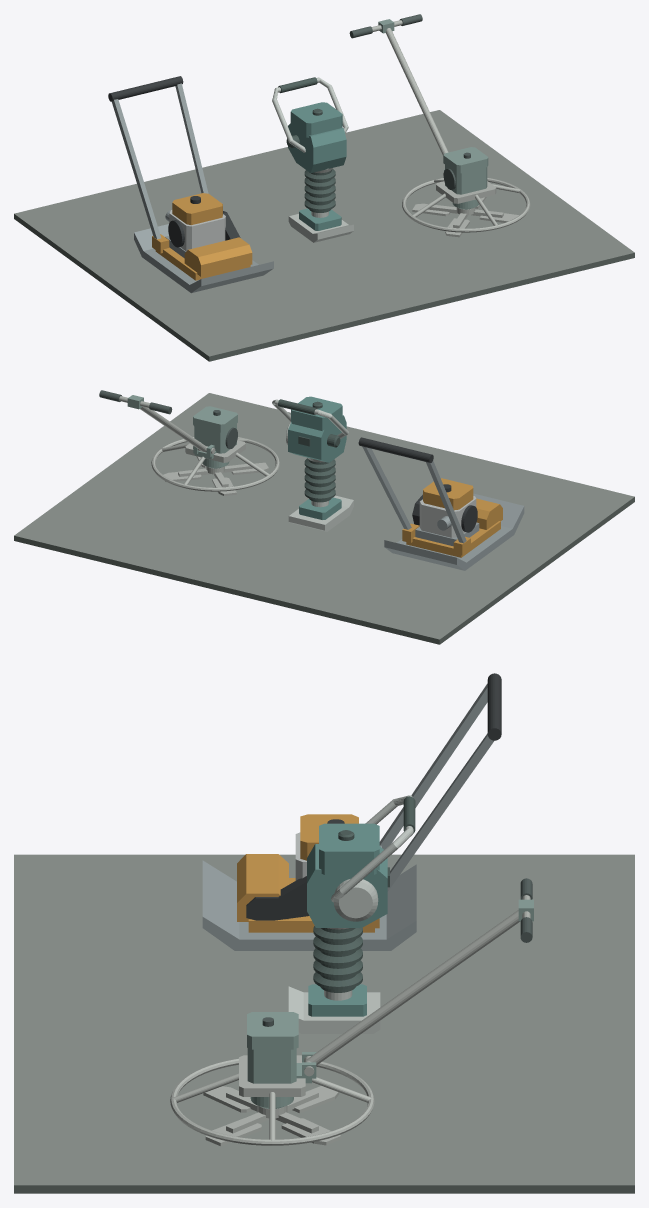
3 views of the same model, one above another, from view 1: azimuth 30°, elevation 25°; view 2: azimuth 150°, elevation 25°; view 3: azimuth 270°, elevation 25° (orthographic). The views are drawn at different scales.
Parts seen in each view (by area): view 1: SCENE_ONLY__DisplayFloor, plate__WholeUpturnedGroundPlate, rammer__WholeOffsetUpperDriveBody, plate__WholeFrontExciterHood, rammer__WholeUpperTankExterior, rammer__WholeContinuousCorrugatedLegBoot, plate__WholeTopTankExterior, plate__WholeFacetedEngineExterior, plate__WholeInclinedHandleSide-1, trowel__WholeContinuousOpenGuardRing, trowel__WholeLongInclinedControlShaft, trowel__WholeRaisedUpperCover (+8 smaller); view 2: SCENE_ONLY__DisplayFloor, plate__WholeUpturnedGroundPlate, rammer__WholeOffsetUpperDriveBody, rammer__WholeContinuousCorrugatedLegBoot, rammer__WholeUpperTankExterior, trowel__WholeContinuousOpenGuardRing, plate__WholeFacetedEngineExterior, plate__WholeTopTankExterior, rammer__WholeNarrowGroundShoe, trowel__WholeRaisedUpperCover, plate__WholeLowMountingDeck, plate__WholeInclinedHandleSide1 (+10 smaller); view 3: SCENE_ONLY__DisplayFloor, plate__WholeUpturnedGroundPlate, rammer__WholeContinuousCorrugatedLegBoot, rammer__WholeOffsetUpperDriveBody, trowel__WholeLongInclinedControlShaft, rammer__WholeUpperTankExterior, trowel__WholeContinuousOpenGuardRing, plate__WholeFrontExciterHood, rammer__WholeNarrowGroundShoe, plate__WholeInclinedHandleSide-1, trowel__WholeRaisedUpperCover, plate__WholeInclinedHandleSide1 (+9 smaller).
Boxes of the visible parts, bbox=[...] form: SCENE_ONLY__DisplayFloor: bbox=[14, 110, 634, 361]; plate__WholeUpturnedGroundPlate: bbox=[134, 224, 273, 293]; rammer__WholeOffsetUpperDriveBody: bbox=[288, 123, 346, 173]; plate__WholeFrontExciterHood: bbox=[184, 237, 252, 276]; rammer__WholeUpperTankExterior: bbox=[290, 102, 342, 137]; rammer__WholeContinuousCorrugatedLegBoot: bbox=[304, 169, 335, 212]; plate__WholeTopTankExterior: bbox=[172, 193, 222, 225]; plate__WholeFacetedEngineExterior: bbox=[169, 210, 225, 251]; plate__WholeInclinedHandleSide-1: bbox=[112, 99, 161, 239]; trowel__WholeContinuousOpenGuardRing: bbox=[402, 178, 530, 232]; trowel__WholeLongInclinedControlShaft: bbox=[386, 28, 448, 155]; trowel__WholeRaisedUpperCover: bbox=[443, 147, 488, 173]; SCENE_ONLY__DisplayFloor: bbox=[14, 393, 634, 644]; plate__WholeUpturnedGroundPlate: bbox=[384, 493, 524, 570]; rammer__WholeOffsetUpperDriveBody: bbox=[288, 415, 346, 462]; rammer__WholeContinuousCorrugatedLegBoot: bbox=[304, 458, 335, 502]; rammer__WholeUpperTankExterior: bbox=[291, 396, 342, 432]; trowel__WholeContinuousOpenGuardRing: bbox=[151, 437, 279, 491]; plate__WholeFacetedEngineExterior: bbox=[419, 496, 476, 537]; plate__WholeTopTankExterior: bbox=[423, 478, 473, 510]; rammer__WholeNarrowGroundShoe: bbox=[288, 495, 353, 531]; trowel__WholeRaisedUpperCover: bbox=[193, 406, 237, 432]; plate__WholeLowMountingDeck: bbox=[406, 521, 500, 557]; plate__WholeInclinedHandleSide1: bbox=[362, 446, 411, 529]; SCENE_ONLY__DisplayFloor: bbox=[14, 854, 634, 1193]; plate__WholeUpturnedGroundPlate: bbox=[202, 860, 416, 950]; rammer__WholeContinuousCorrugatedLegBoot: bbox=[313, 926, 362, 992]; rammer__WholeOffsetUpperDriveBody: bbox=[307, 844, 387, 927]; trowel__WholeLongInclinedControlShaft: bbox=[306, 910, 519, 1065]; rammer__WholeUpperTankExterior: bbox=[319, 823, 379, 874]; trowel__WholeContinuousOpenGuardRing: bbox=[170, 1058, 374, 1145]; plate__WholeFrontExciterHood: bbox=[237, 854, 288, 921]; rammer__WholeNarrowGroundShoe: bbox=[288, 986, 380, 1033]; plate__WholeInclinedHandleSide-1: bbox=[379, 683, 487, 849]; trowel__WholeRaisedUpperCover: bbox=[247, 1012, 298, 1049]; plate__WholeInclinedHandleSide1: bbox=[387, 733, 494, 891].
Bounding box in the file's own units: 3.4 × 1.11 × 2.7.
